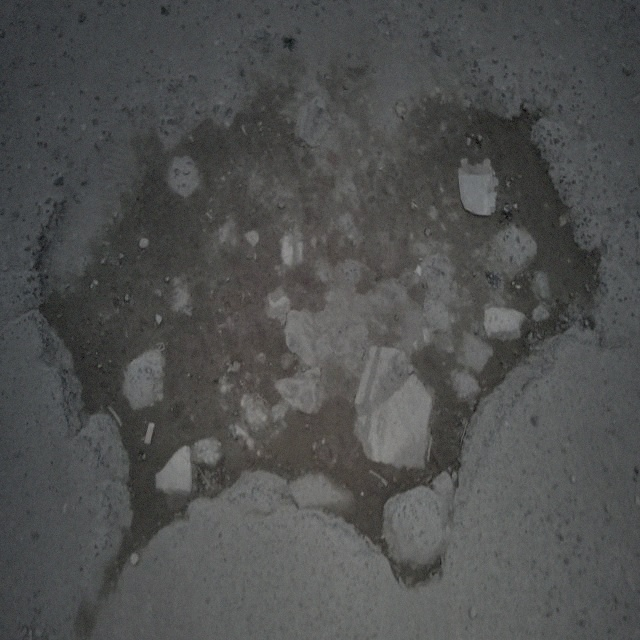pothole: (28, 64, 606, 589)
